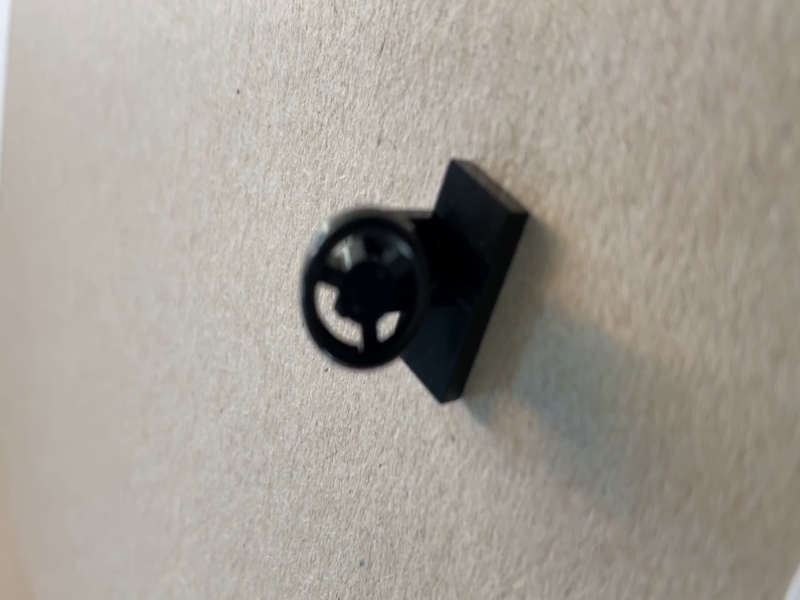steering wheel: (299, 159, 531, 413)
